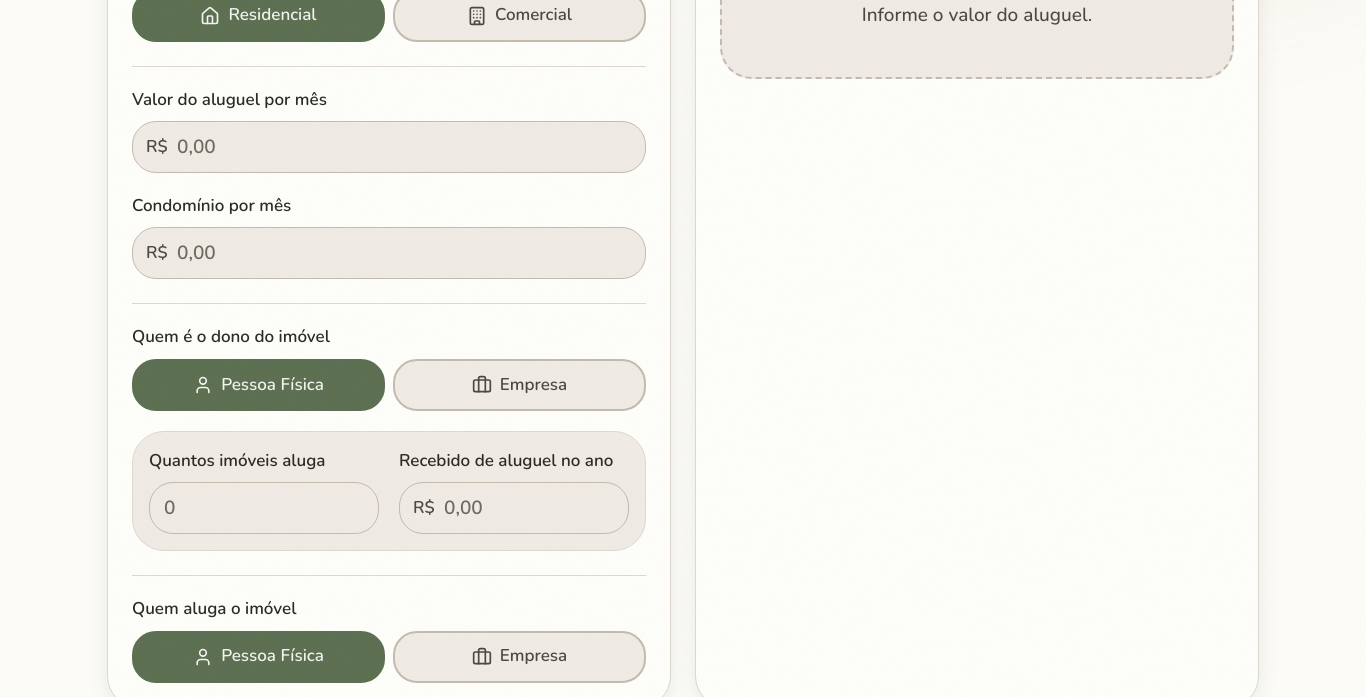
Test case: Interface pública (locador assistido) › troca os campos exibidos conforme o dono seja pessoa física ou empresa
The width and height of the screenshot is (1366, 697).
(page scrolled)
Expected: the field labelled "Quantos imóveis aluga" is shown, [149, 482, 379, 534]
Click the radio button labelled "Empresa" below "Quem é o dono do imóvel" at (520, 385), box [393, 359, 646, 411]
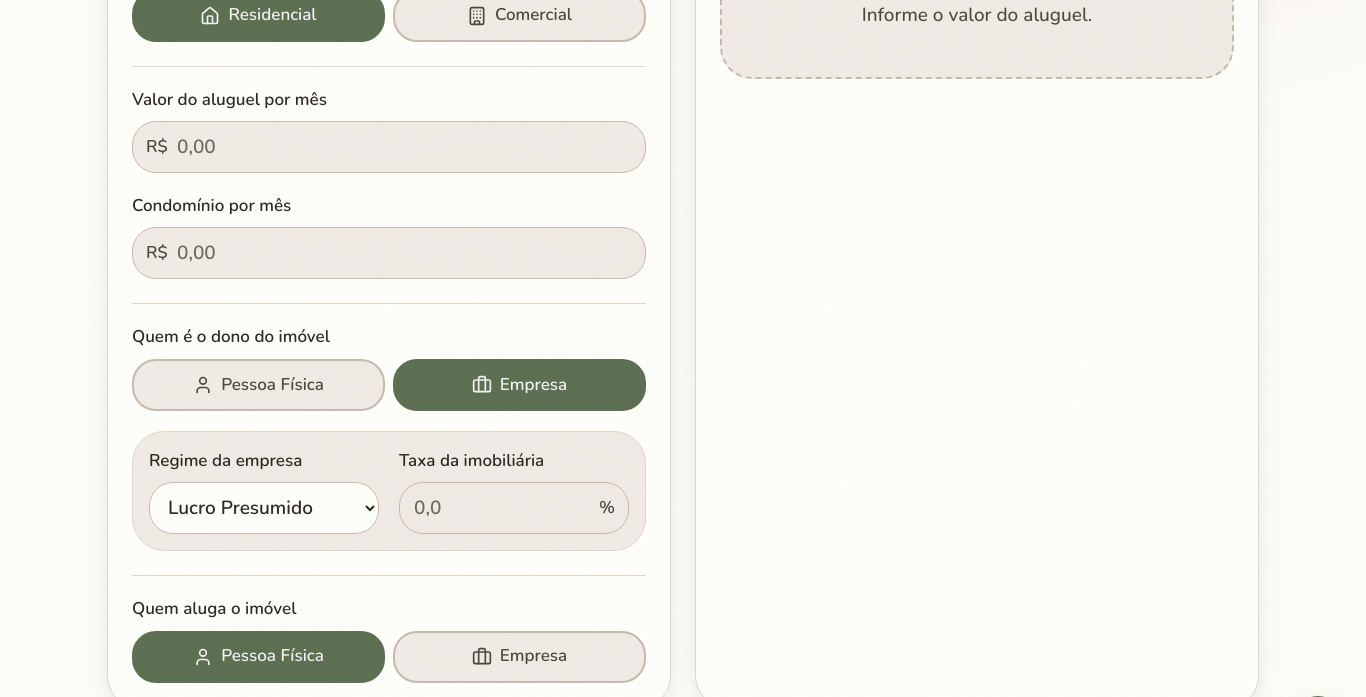
Expected: the field labelled "Taxa da imobiliária" is shown, [399, 482, 629, 534]
Expected: the label labelled "Quantos imóveis aluga" is gone
Expected: the dropdown labelled "Regime da empresa" is shown, [149, 482, 379, 534]
